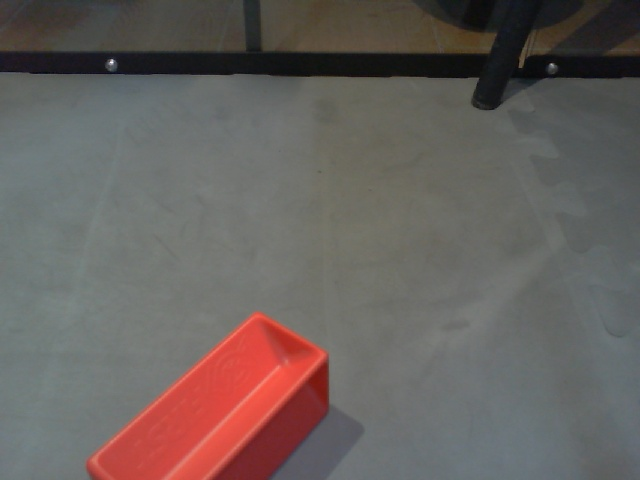RedSample: (82, 309, 333, 480)
